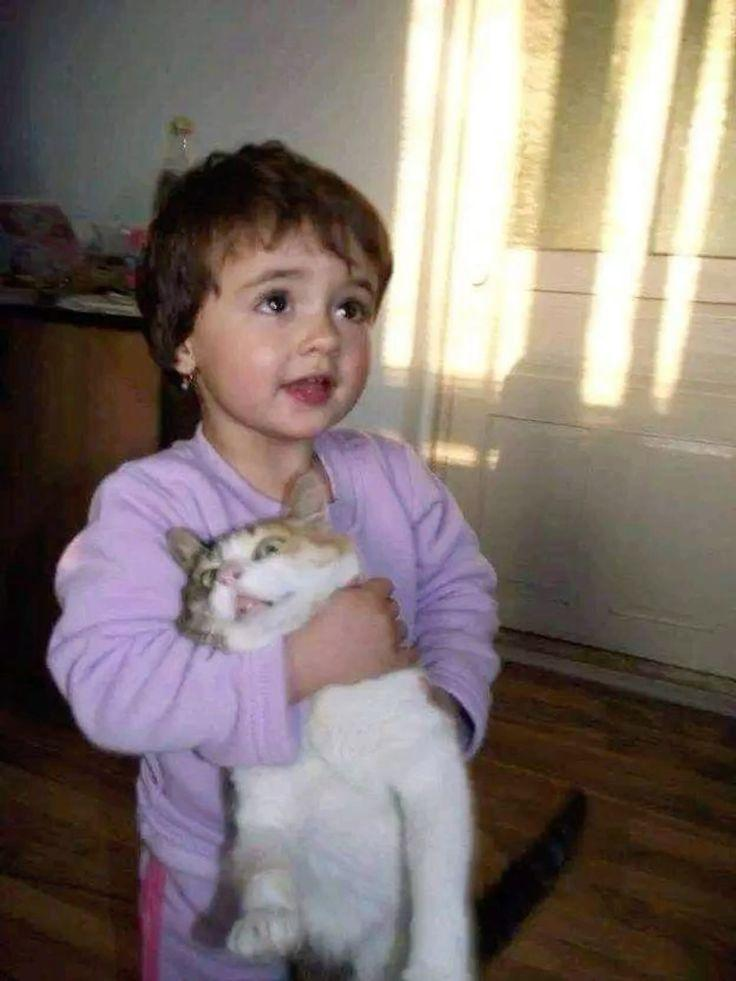kedo: (163, 472, 475, 981)
